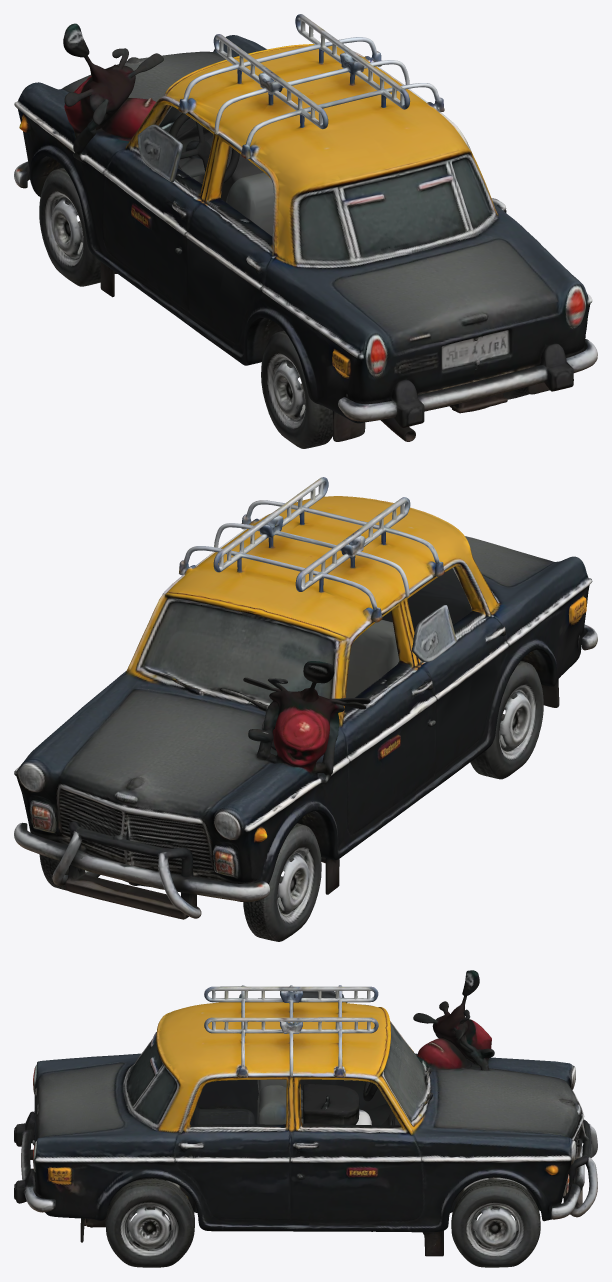
The model's file is padmini.glb.
3 renders of one model, top to bottom at view 1: azimuth 30°, elevation 25°; view 2: azimuth 150°, elevation 25°; view 3: azimuth 270°, elevation 25°, orthographic. The views are drawn at different scales.
Parts seen in each view (by area): view 1: tripo_node_62d476f5-ecfc-47c9-be59-69958c568b0d; view 2: tripo_node_62d476f5-ecfc-47c9-be59-69958c568b0d; view 3: tripo_node_62d476f5-ecfc-47c9-be59-69958c568b0d.
Boxes of the visible parts, x1,y1,x2,y2 form: tripo_node_62d476f5-ecfc-47c9-be59-69958c568b0d: (14, 14, 597, 448); tripo_node_62d476f5-ecfc-47c9-be59-69958c568b0d: (14, 477, 597, 941); tripo_node_62d476f5-ecfc-47c9-be59-69958c568b0d: (14, 970, 597, 1267).
Size of the model in its own units: 0.4296 by 0.4214 by 1.
Materials: 1 (1 with a texture image).
